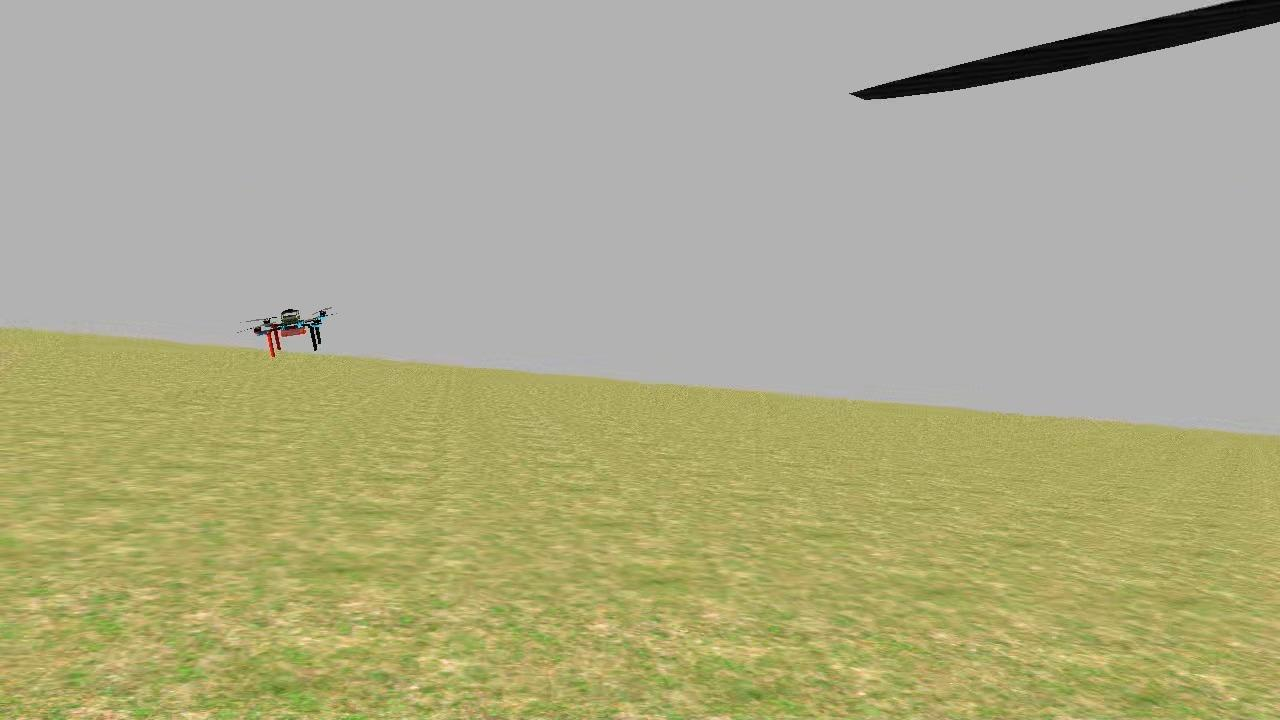UAV: (246, 308, 330, 360)
